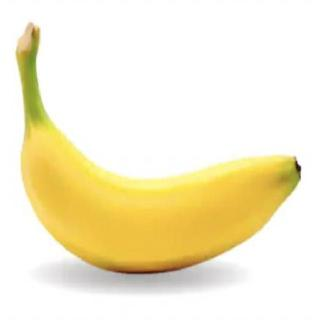banana: (19, 131, 304, 275)
